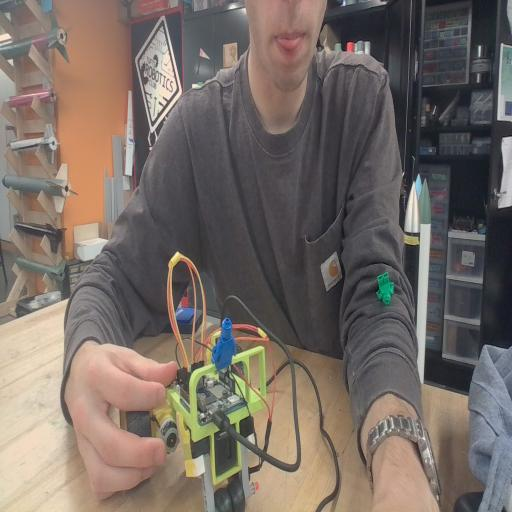blue LEGO minifig: (211, 316, 237, 377)
green LEGO minifig: (375, 266, 397, 312)
